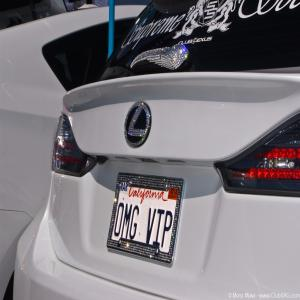Vehicle-registration-plate: (102, 174, 182, 266)
